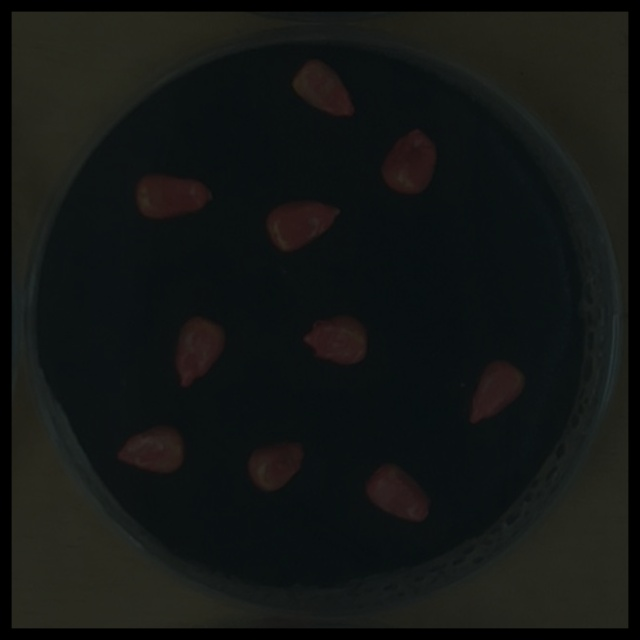Zea mays: (258, 191, 348, 261), (359, 454, 438, 528), (459, 351, 532, 431), (166, 309, 233, 393), (373, 120, 443, 199), (286, 50, 362, 122), (128, 166, 219, 226), (296, 305, 375, 372), (108, 417, 191, 479), (239, 430, 312, 497)
